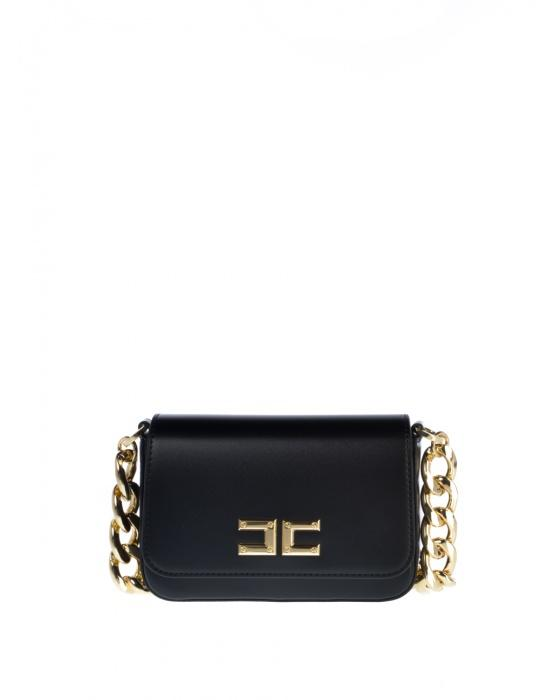ELISABETTA-FRANCHI: (223, 507, 336, 571)
